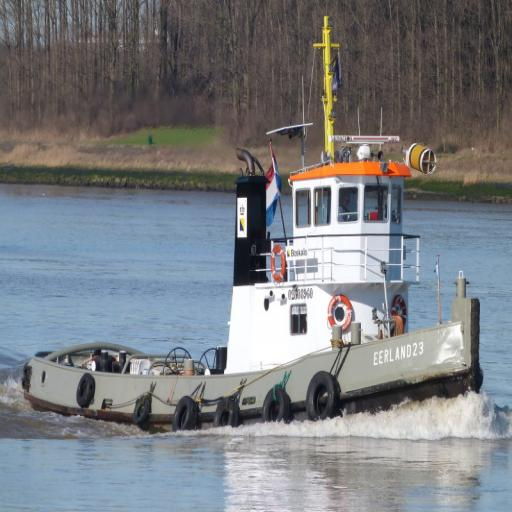tugboat: (20, 14, 488, 441)
